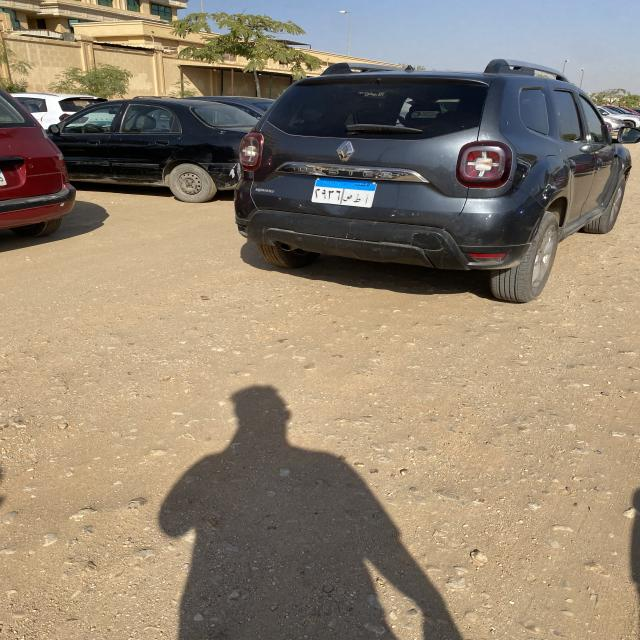License Plate: (311, 176, 378, 207)
